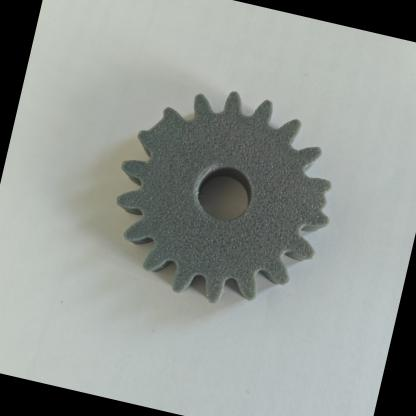defect: (268, 146, 368, 262), (108, 79, 206, 182)
gear: (65, 55, 392, 342)
